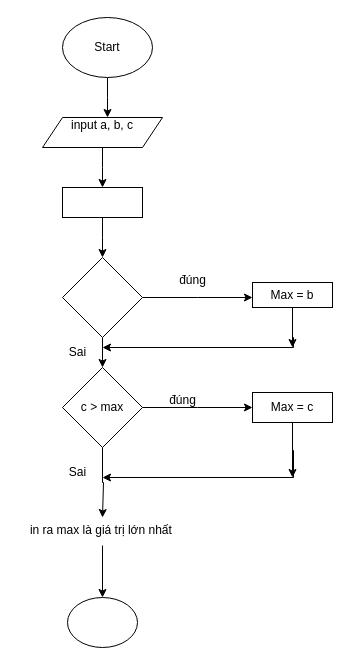
Image size: 350x665. Some labels were removed from this diagram. The box of each missing label's shape, as (x1, y1, x2, y2) in pixels:
a = max: (62, 186, 142, 218)
b > max: (62, 256, 142, 338)
Stop: (66, 596, 138, 648)
